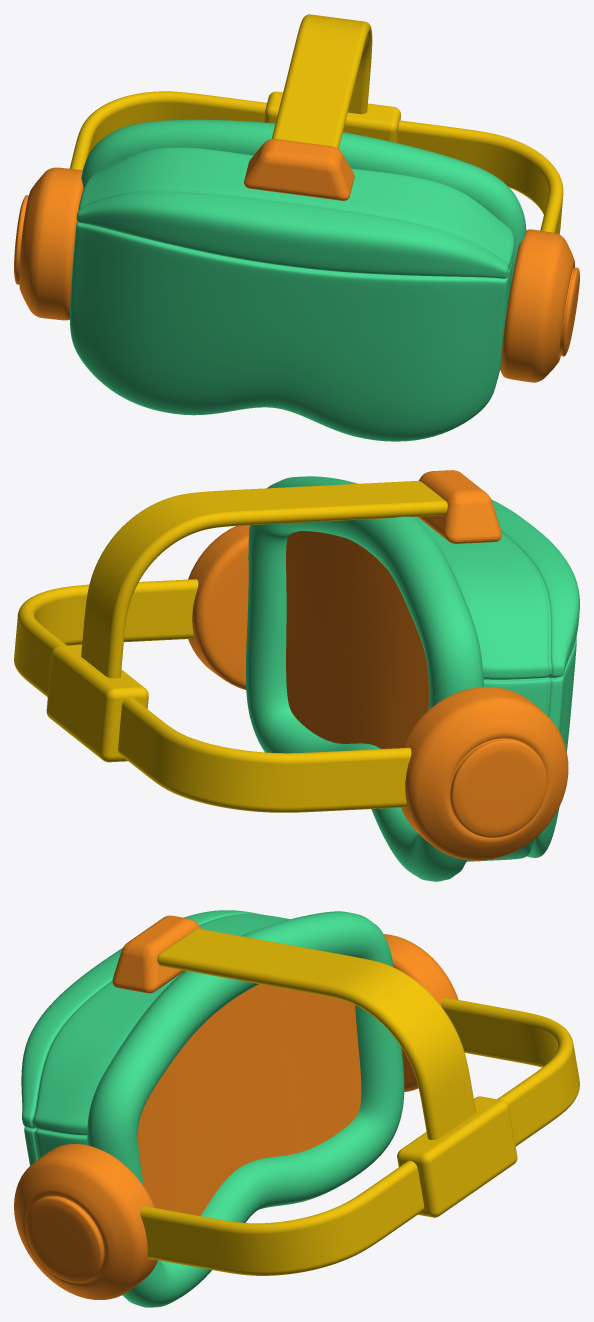
File: vr-3d-icon-720621286703.glb
The picture shows the model from 3 angles, top to bottom: view 1: azimuth 30°, elevation 25°; view 2: azimuth 150°, elevation 25°; view 3: azimuth 270°, elevation 25°; orthographic projection. The views are drawn at different scales.
Parts seen in each view (by area): view 1: VR Glass, Strap, Hub; view 2: Hub, Strap, VR Glass; view 3: Hub, Strap, VR Glass.
Boxes of the visible parts, <box> form: VR Glass: <box>70,119,526,441</box>; Strap: <box>69,14,563,234</box>; Hub: <box>14,139,579,382</box>; Hub: <box>188,470,568,860</box>; Strap: <box>14,481,447,812</box>; VR Glass: <box>246,476,579,881</box>; Hub: <box>14,915,458,1299</box>; Strap: <box>140,928,579,1275</box>; VR Glass: <box>21,910,404,1307</box>.
Bounding box in the file's own units: 3.53 × 2.11 × 3.32.
